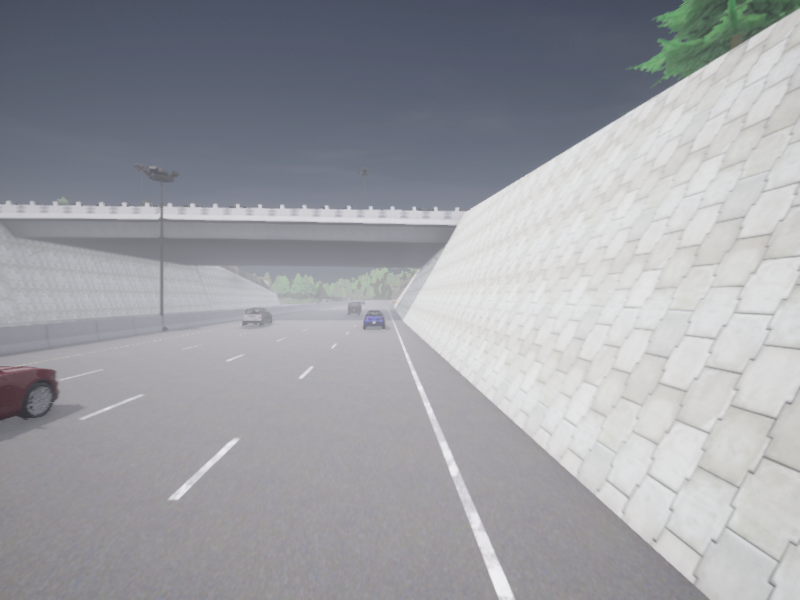vehicle: (0, 367, 58, 420), (242, 308, 272, 326), (363, 310, 384, 328), (348, 302, 361, 314), (360, 301, 365, 304)
